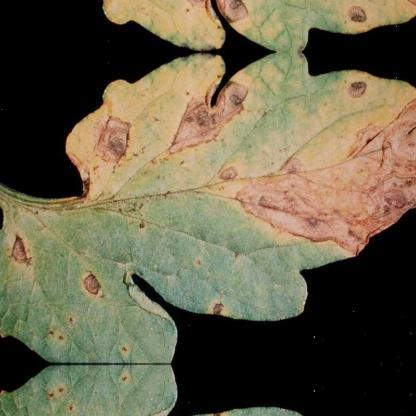Early-Blight: (0, 57, 416, 361)
